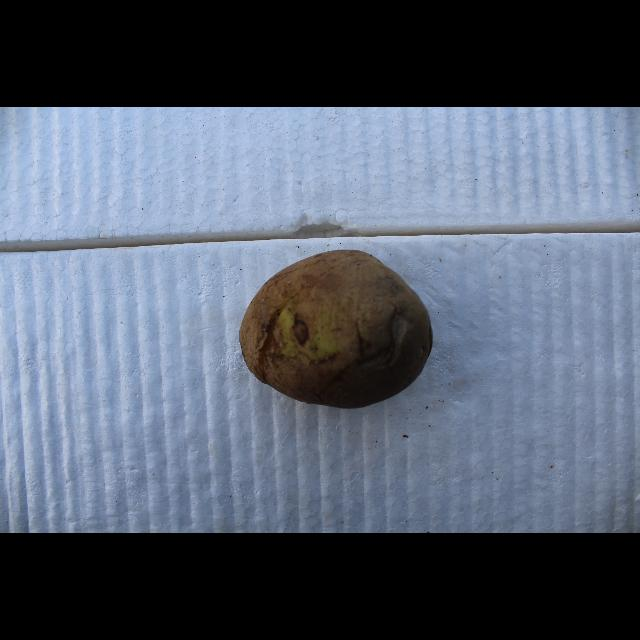Diseased-fungal potato: (233, 250, 437, 410)
